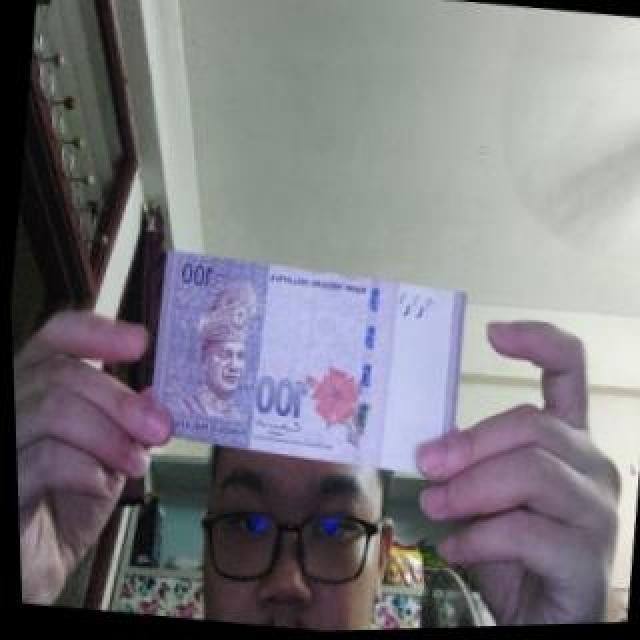100 Ringgit: (124, 242, 485, 496)
